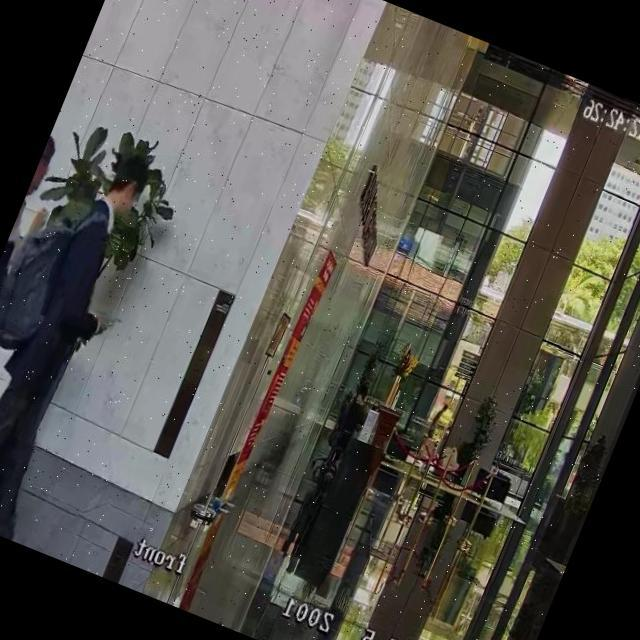person: (0, 116, 173, 543), (0, 132, 76, 498), (336, 382, 375, 446), (424, 400, 448, 442)
